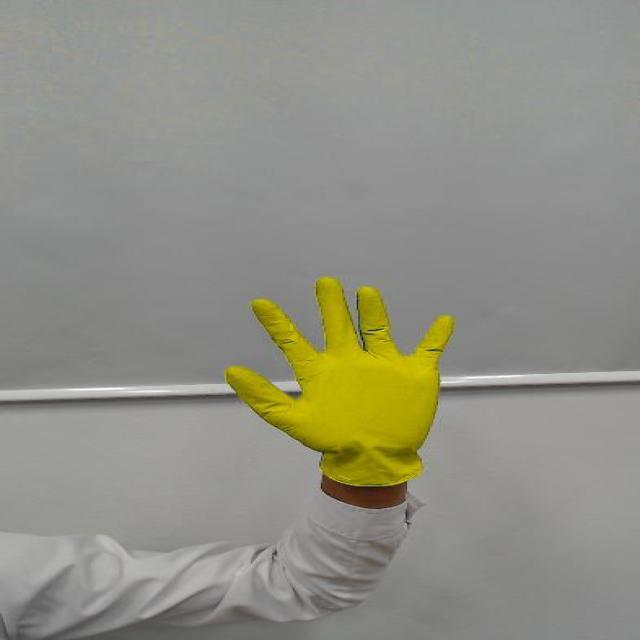gloved_hand: (217, 272, 474, 440)
